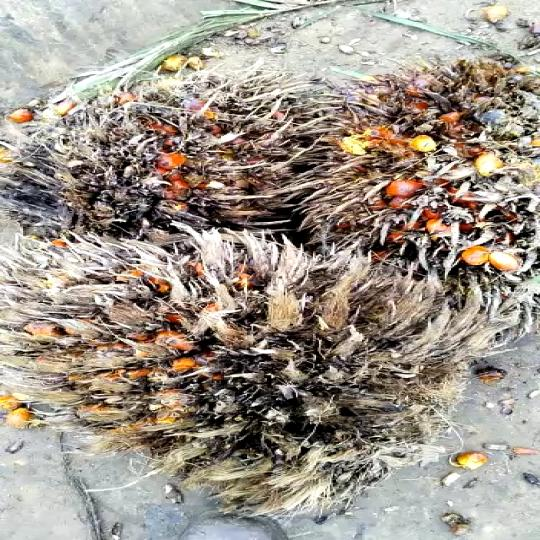terlalu masak: (16, 228, 465, 464), (0, 72, 321, 234), (304, 65, 540, 258)
